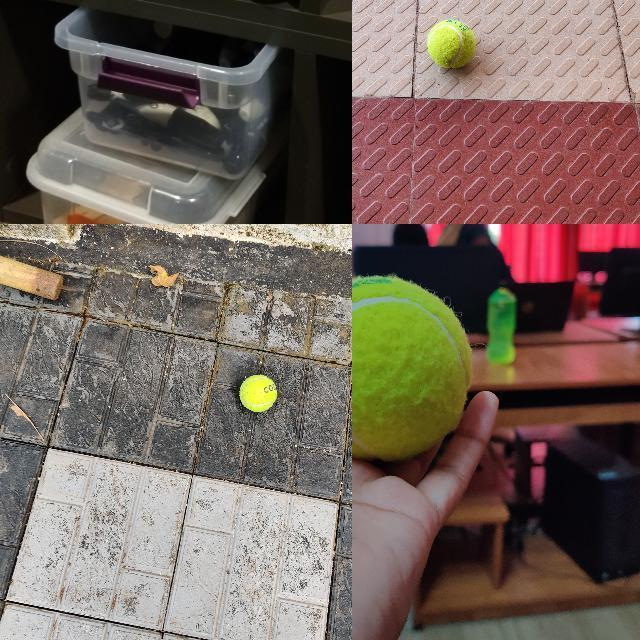tennis-ball: (352, 275, 472, 462), (427, 19, 476, 67), (239, 374, 278, 412)
